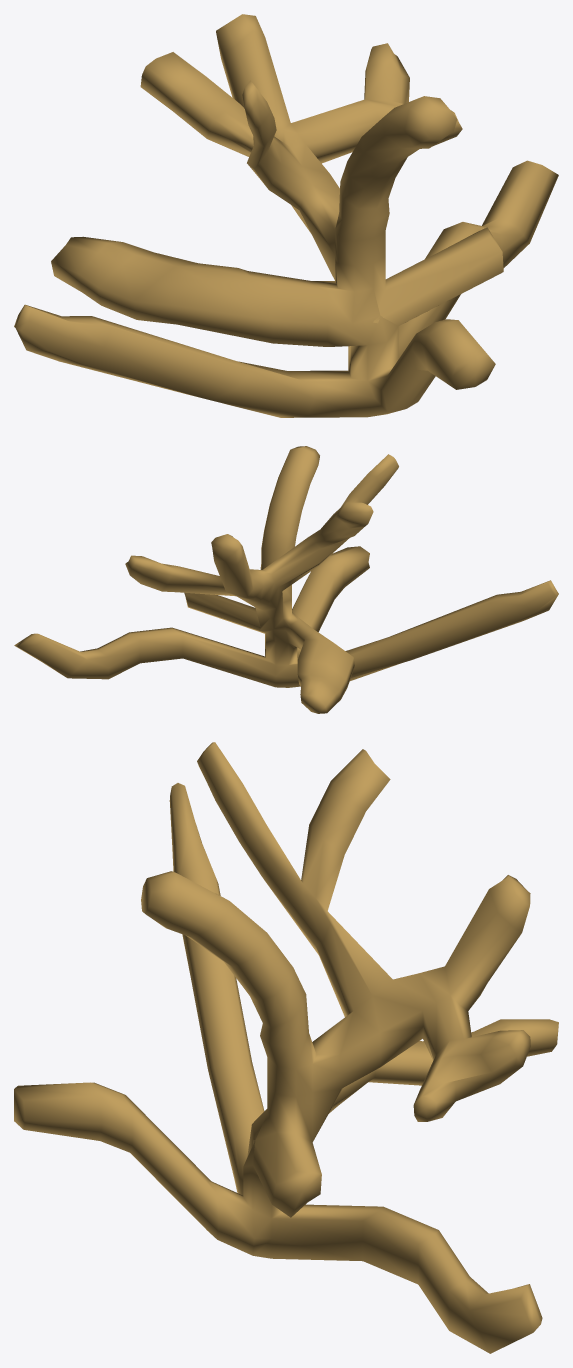
File: SM_Branch_Coral.fbx
The picture shows the model from 3 angles, top to bottom: view 1: azimuth 30°, elevation 25°; view 2: azimuth 150°, elevation 25°; view 3: azimuth 270°, elevation 25°; orthographic projection. The views are drawn at different scales.
Parts seen in each view (by area): view 1: Cube.003; view 2: Cube.003; view 3: Cube.003.
Boxes of the visible parts, bbox=[...] form: Cube.003: bbox=[14, 14, 558, 417]; Cube.003: bbox=[14, 446, 558, 713]; Cube.003: bbox=[14, 742, 558, 1353].
Bounding box in the file's own units: 2.43 × 1.25 × 1.46.
